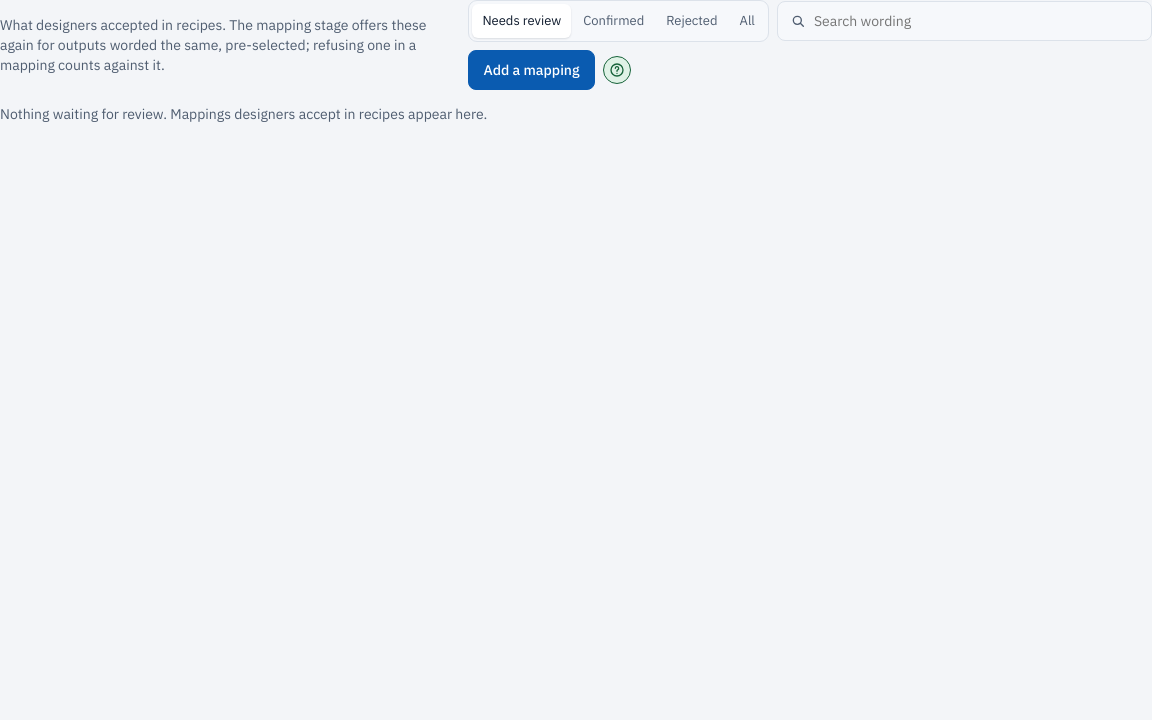
RememberedMappings › adds a mapping by hand and shows a refusal
Click the button "Add a mapping" at [531, 70], box [468, 50, 594, 90]
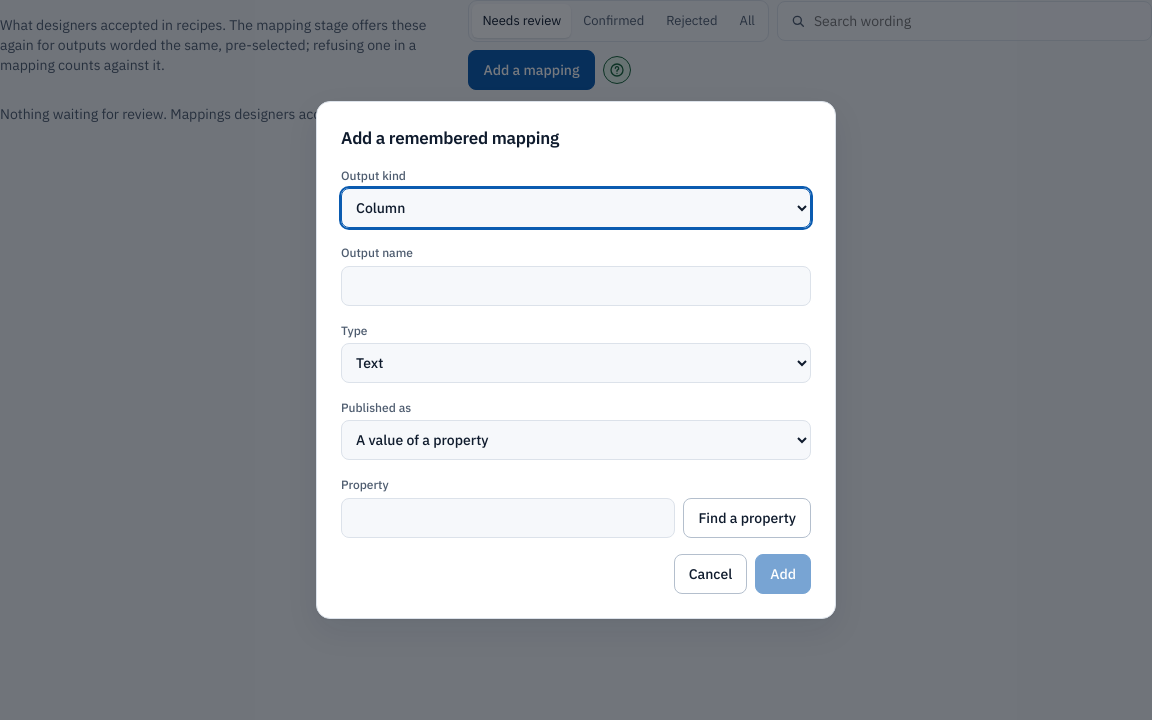
Type "Lot no." into the field labelled "Output name" at [576, 286], box [341, 266, 811, 306]
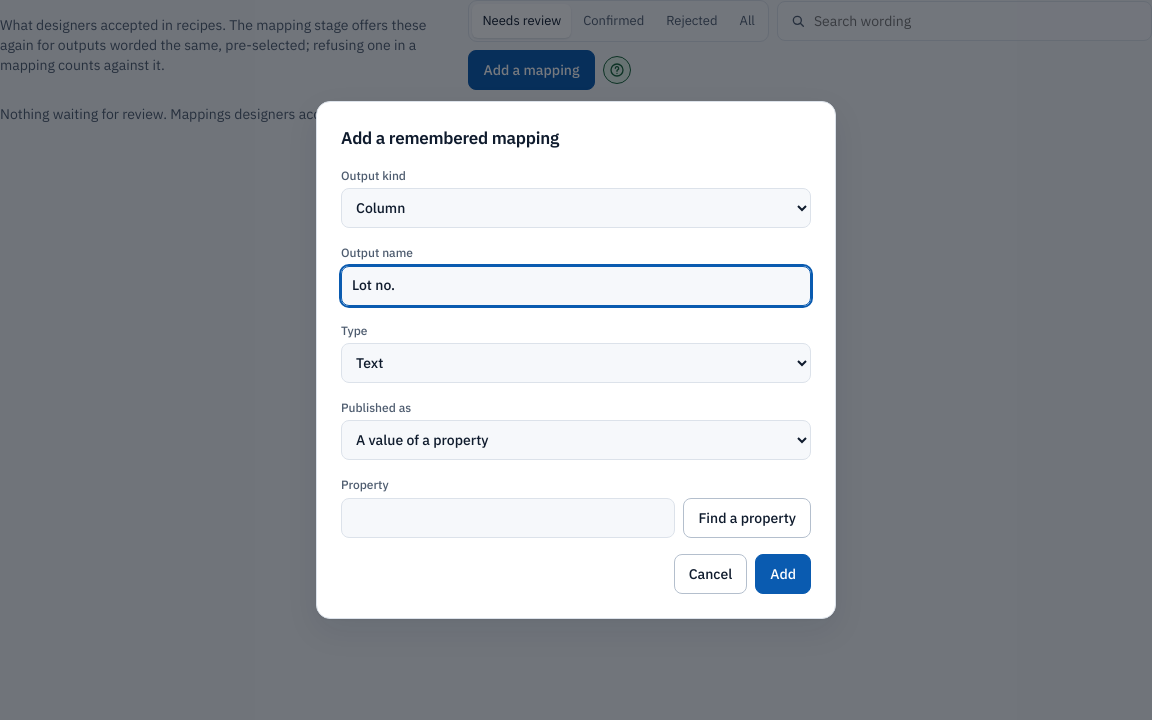
Type "https://nowhere/x" into the field labelled "Property" at [508, 518], box [341, 498, 675, 538]
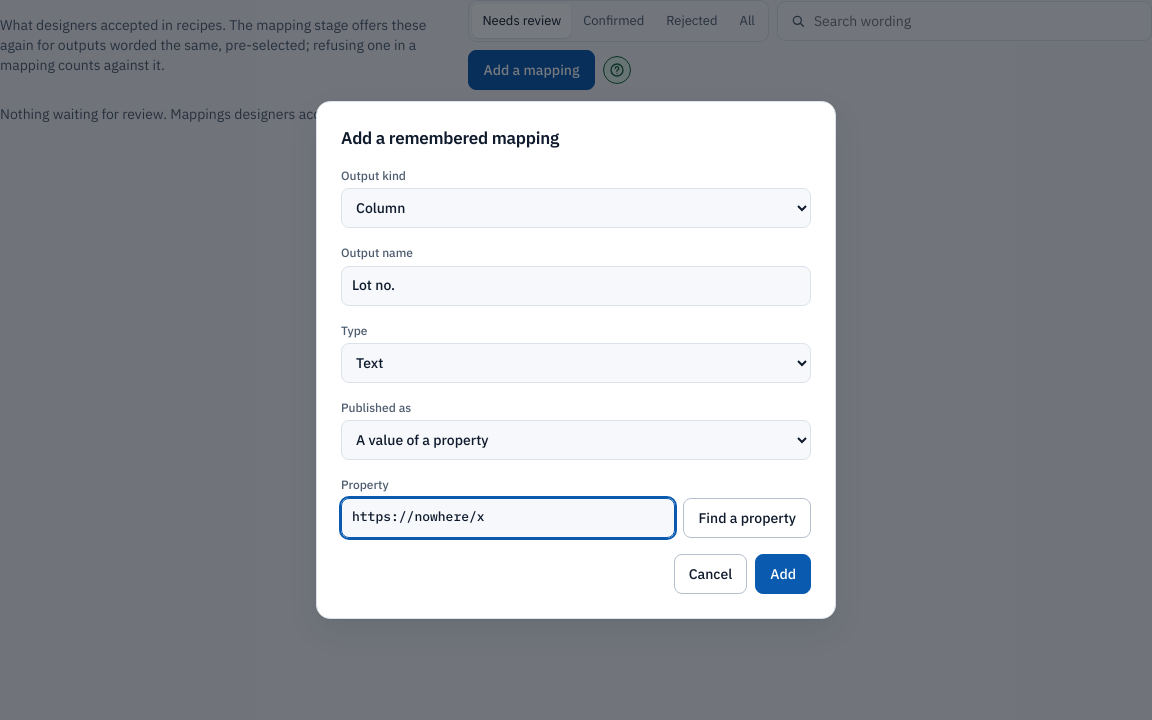
Click the button "Add" at [783, 574], box [755, 554, 811, 594]
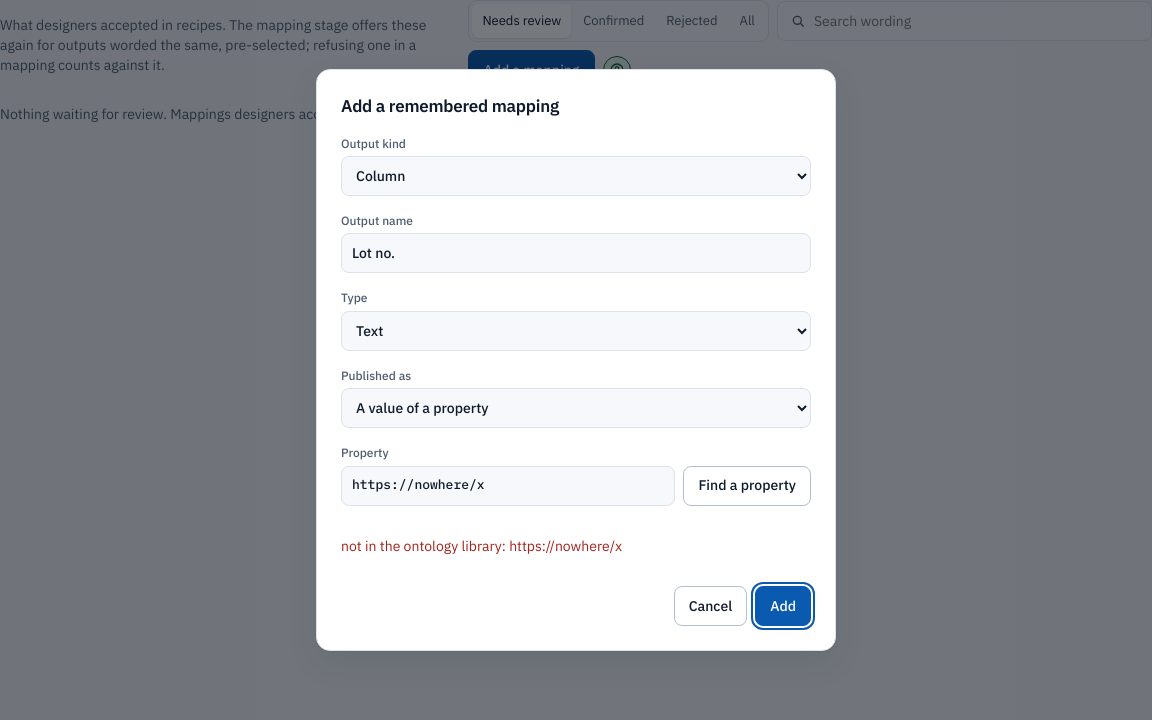
expect the message reads "not in the ontology library: https://nowhere/x": met, box [341, 537, 622, 555]
